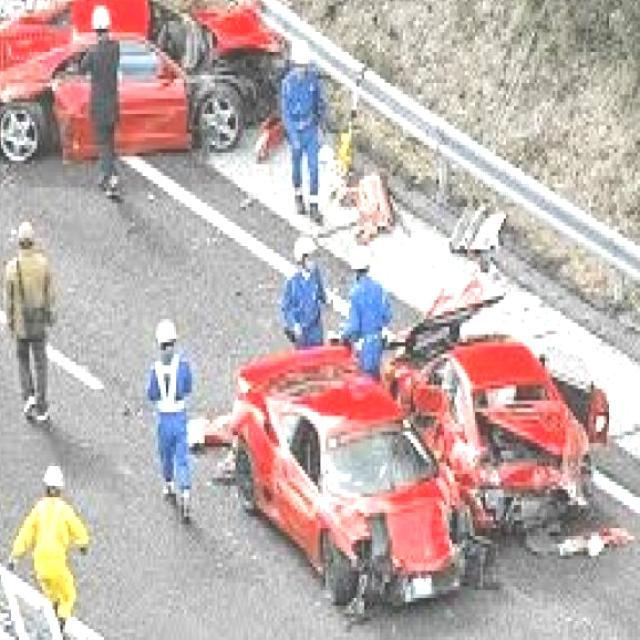accident: (198, 291, 626, 620), (0, 0, 290, 171)
